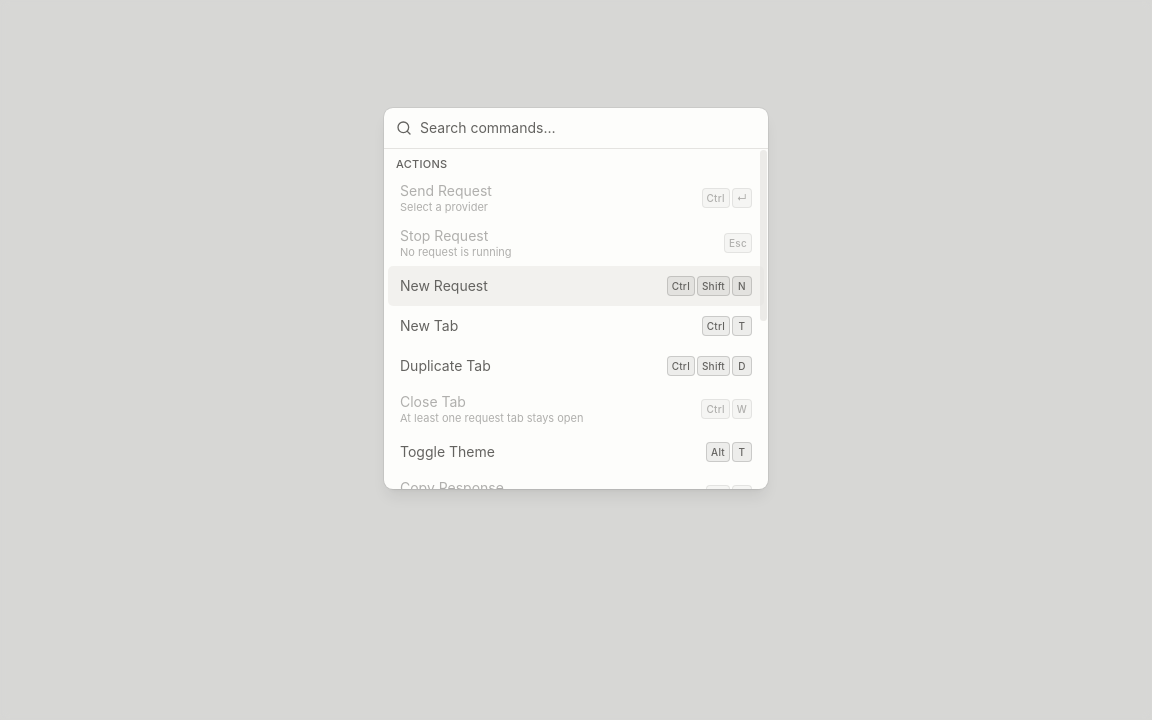
Test case: CommandPalette › finds commands by intent keywords
Type "credentials" into the dropdown labelled "Search commands".
click(588, 128); type("credentials")  # box [420, 118, 756, 138]
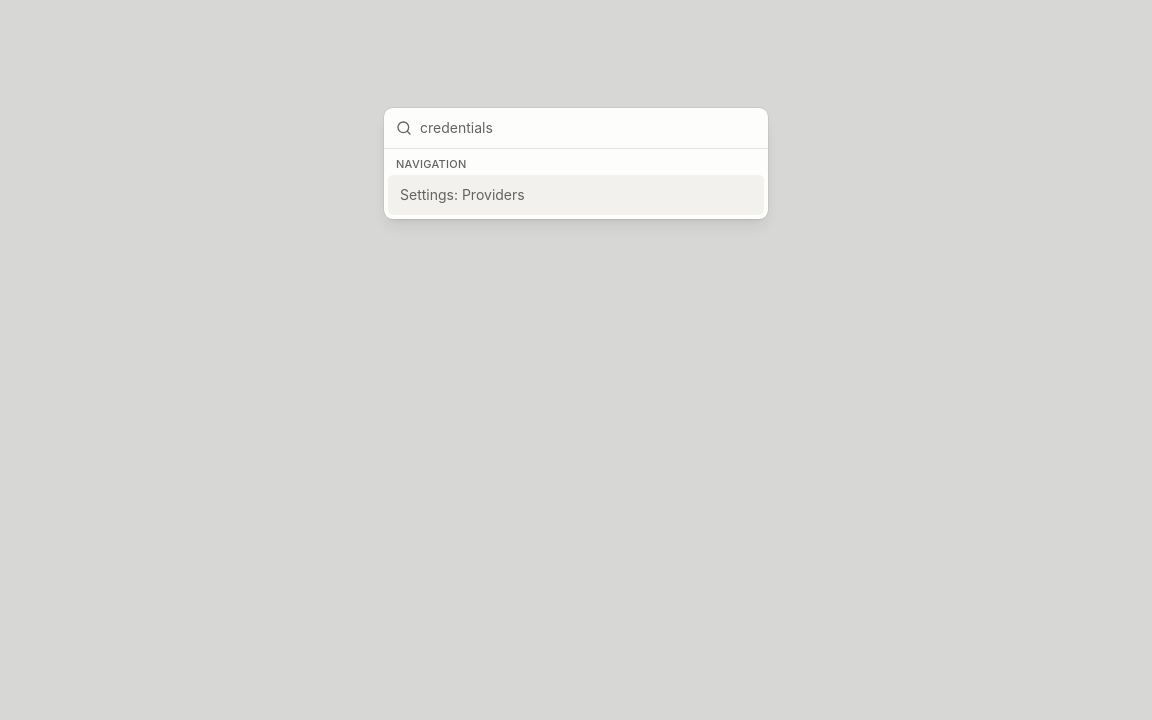
Expected: the text "Settings: General" is not shown
Result: the text "Settings: Providers" is shown at [400, 186, 525, 203]
